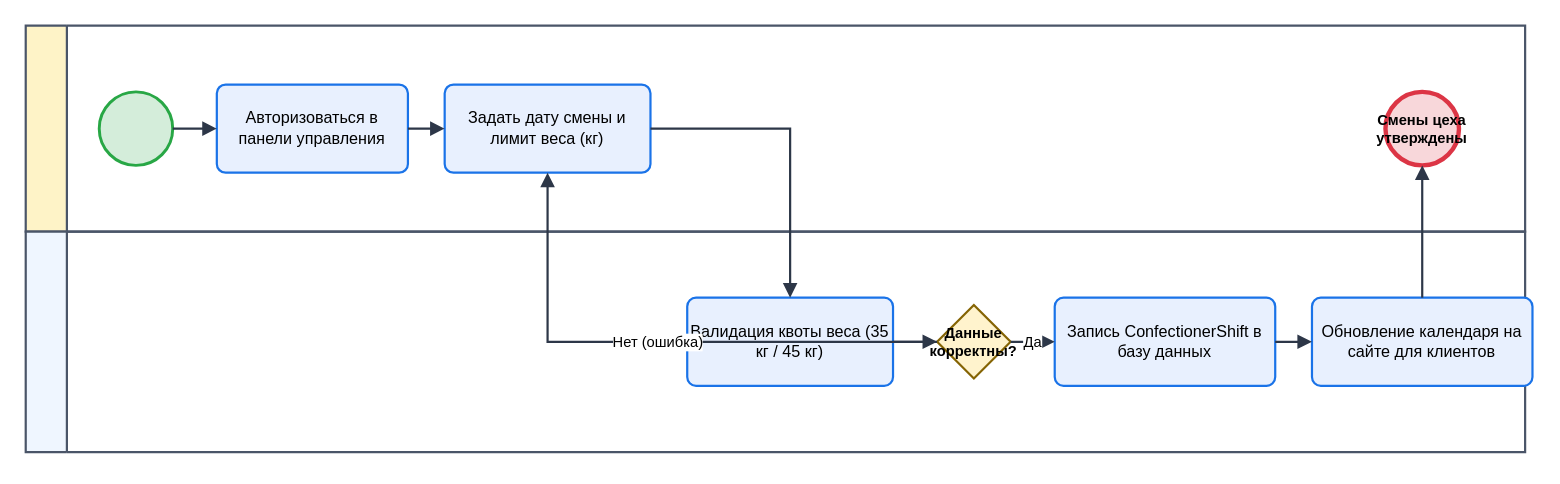
Image size: 1560x484. Some labels were removed from this diagram. Each missing label, with the box of its shape:
Веб-сервис (Панель смен): (24, 230, 1526, 452)
Начало планового периода смен: (97, 90, 173, 166)
Шеф-кондитер: (24, 24, 1526, 232)
